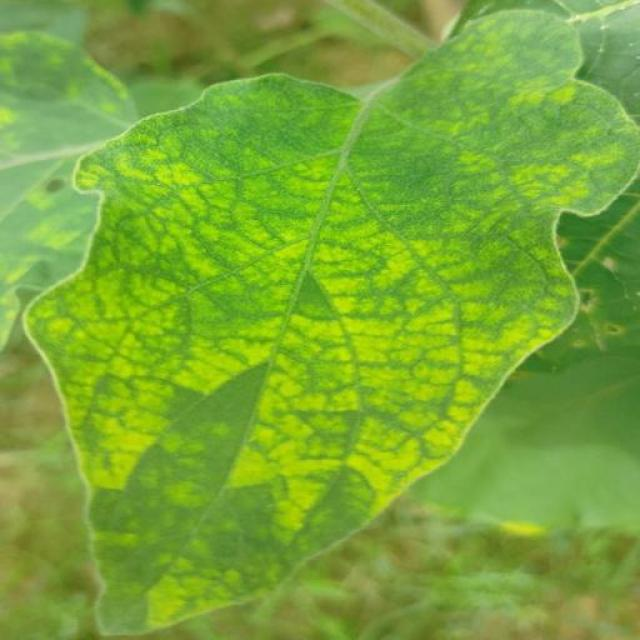leaf_spot: (64, 479, 288, 640), (420, 35, 628, 201), (206, 395, 426, 536), (20, 270, 210, 387), (193, 290, 339, 414), (47, 368, 182, 495), (190, 113, 310, 249), (311, 304, 466, 404), (0, 25, 137, 138), (363, 243, 509, 339), (440, 143, 550, 270), (85, 174, 212, 278), (289, 190, 419, 286), (401, 371, 512, 466), (180, 252, 337, 312), (563, 243, 631, 369), (280, 138, 378, 210), (110, 129, 197, 195), (146, 466, 218, 515), (4, 246, 46, 316), (494, 500, 550, 550), (68, 139, 104, 199), (35, 208, 76, 260), (19, 179, 62, 227)
